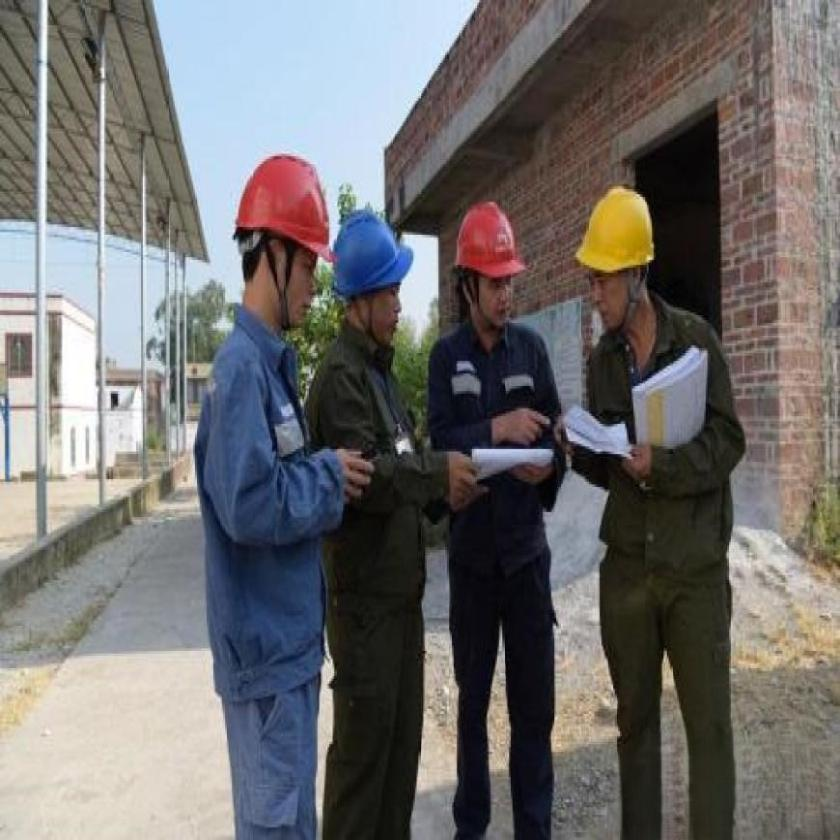Con_casco: (221, 127, 329, 335), (562, 158, 680, 345), (444, 190, 536, 349), (337, 188, 410, 366)
